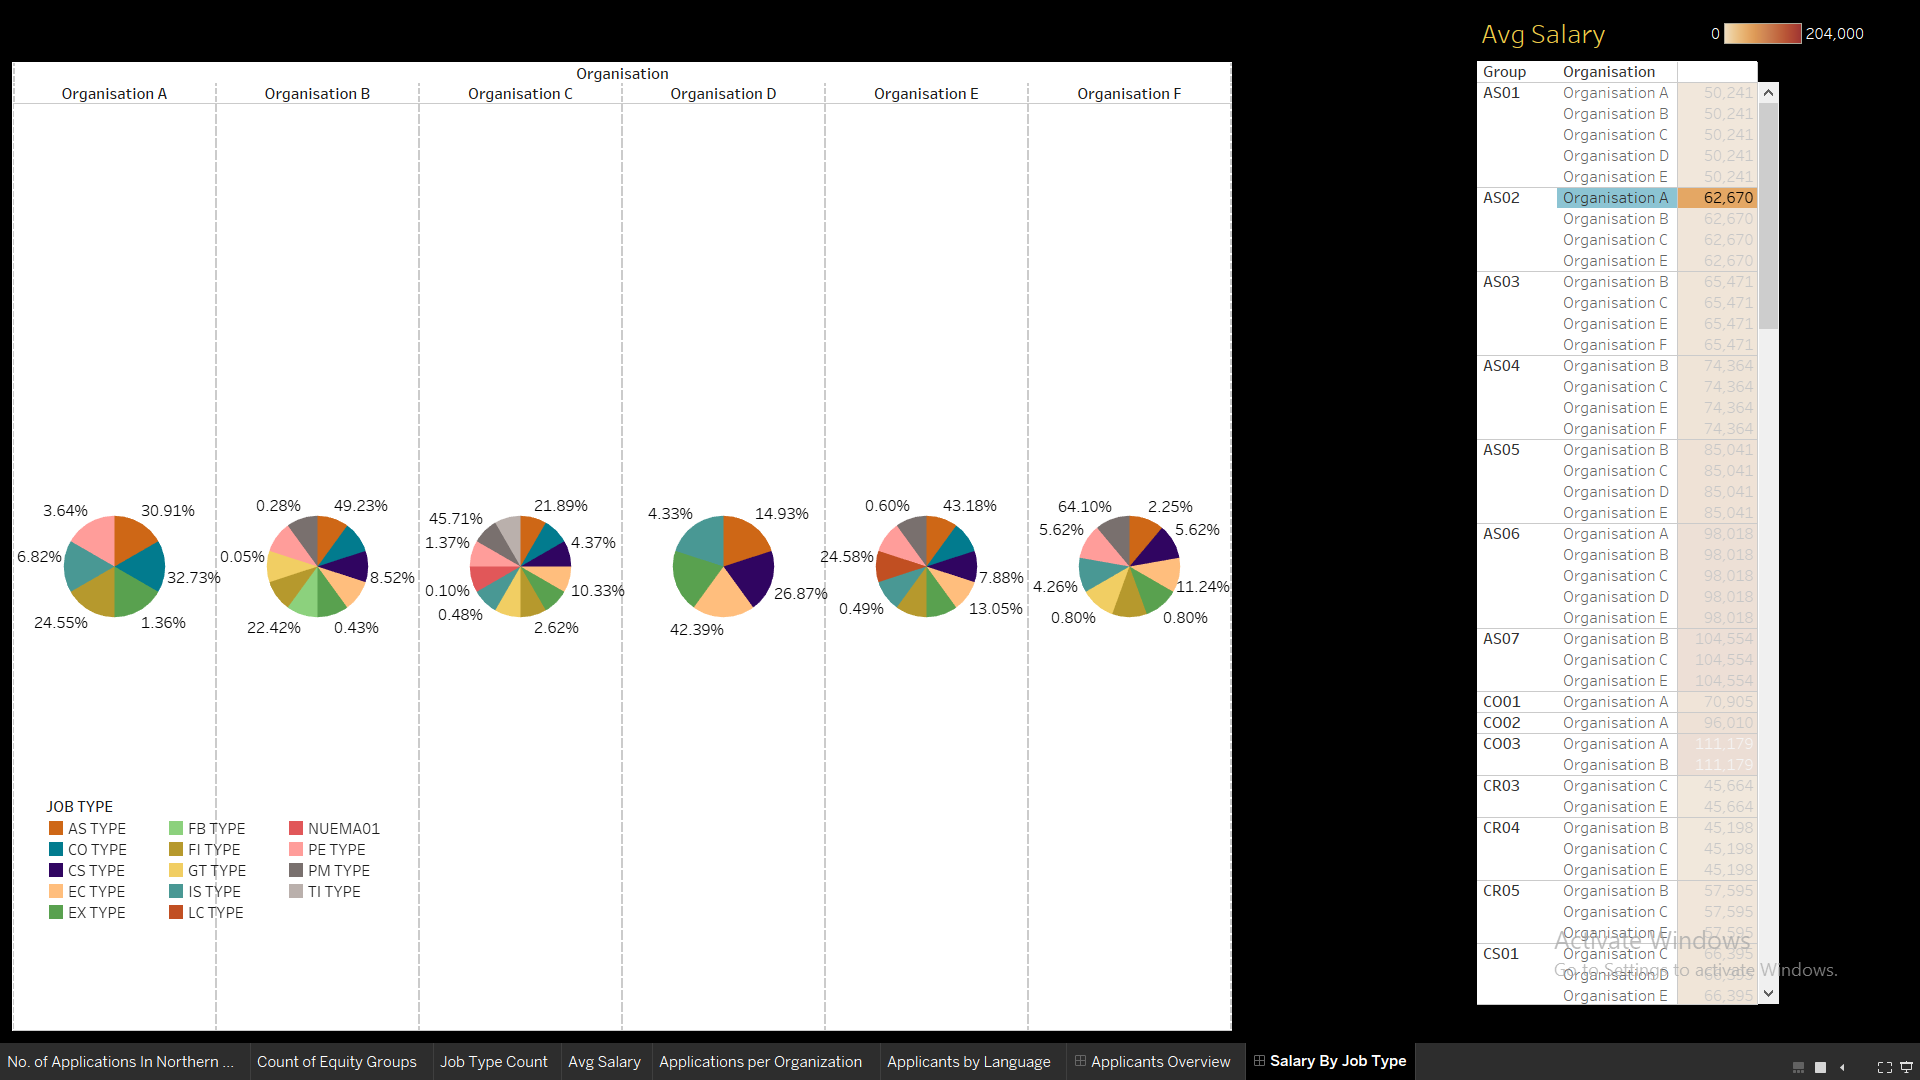

This screenshot's page, from the dashboard's own definition file:
{"tool":"tableau","page":{"name":"Salary By Job Type","canvas":[1000,1000],"units":"permille","ordinal":1},"visuals":[{"type":"worksheet","title":"Job Type Count","mark":"Pie","cols":["ORGANISATION"],"box":[6.8,11.9,750.7,976.1]},{"type":"worksheet","title":"Avg Salary","mark":"Square","rows":["GROUP","ORGANISATION"],"box":[757.5,11.9,208.5,976.1]},{"type":"legend","title":"Avg Salary","param":"[federated.1nue7rv1p7az7510prcvg0c8aso9].[avg:SALARY:qk]","box":[889,18.6,84.5,43]},{"type":"legend","title":"Job Type Count","param":"[federated.1nue7rv1p7az7510prcvg0c8aso9].[Other]","box":[24.1,763.1,523.2,123.1]}]}

Visuals, with their boxes on the dashboard's canvas, which has no fixed pixel size, in thousandths of its width and height (x1, y1, x2, y2). These are canvas units, not pixel positions in the 1920x1080 screenshot, which may show the page scaled, cropped or inside an application window:
"Job Type Count" worksheet (Pie marks): x1=7, y1=12, x2=758, y2=988
"Avg Salary" worksheet (Square marks): x1=758, y1=12, x2=966, y2=988
"Avg Salary" legend: x1=889, y1=19, x2=974, y2=62
"Job Type Count" legend: x1=24, y1=763, x2=547, y2=886
